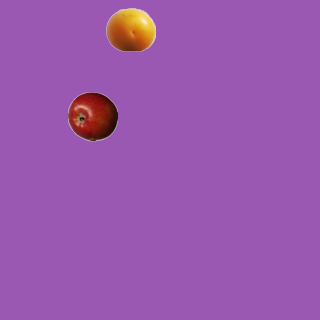Apple Braeburn: (67, 91, 117, 141)
Cherry Wax Yellow: (105, 4, 155, 54)
